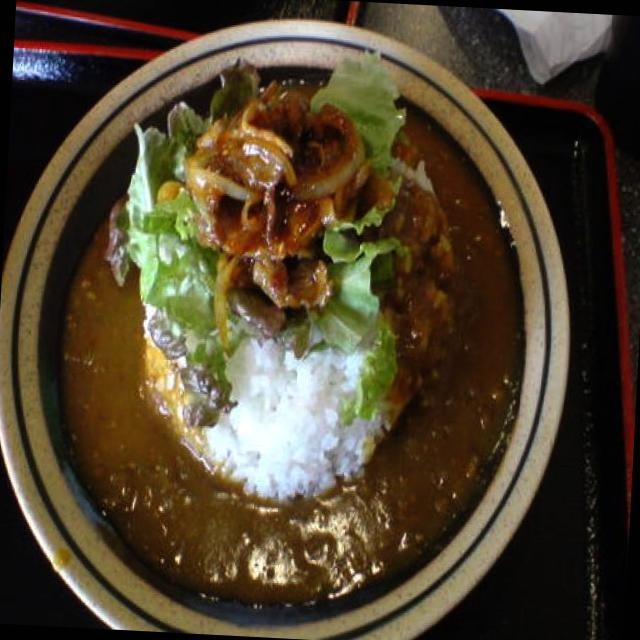Beef Curry: (388, 194, 519, 465)
